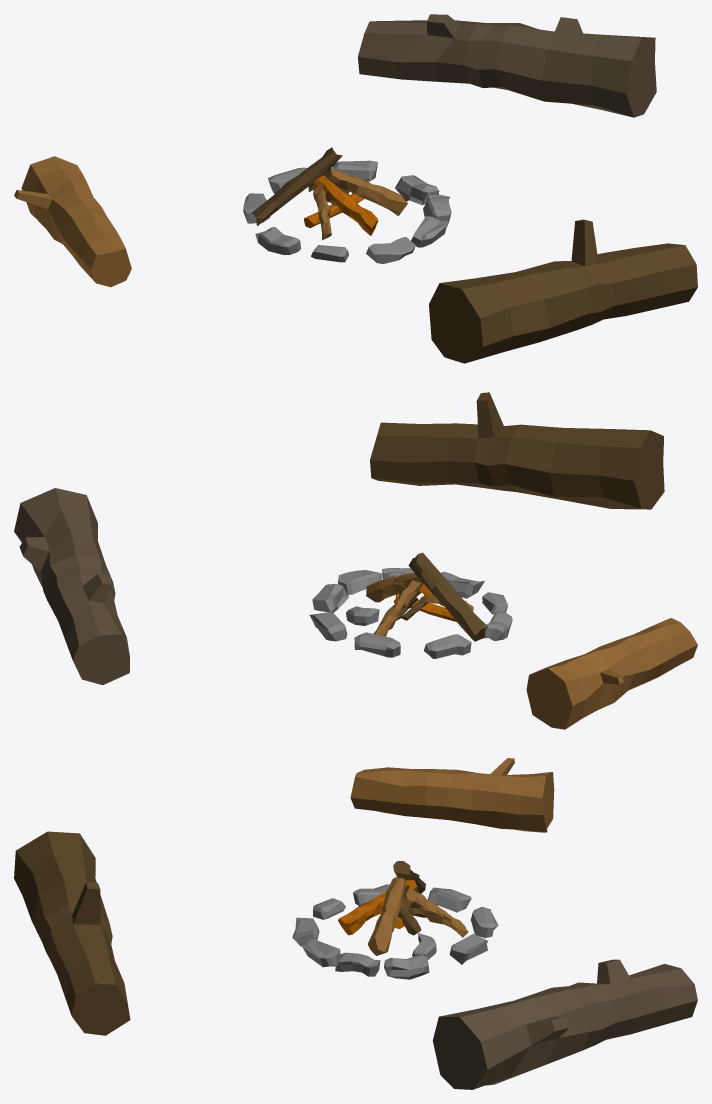
File: bonfire without fire.fbx
The picture shows the model from 3 angles, top to bottom: view 1: azimuth 30°, elevation 25°; view 2: azimuth 150°, elevation 25°; view 3: azimuth 270°, elevation 25°; orthographic projection. The views are drawn at different scales.
Parts seen in each view (by area): view 1: Cylinder, Cylinder.003, Cylinder.002, Cylinder.004, Cube, Cube.002, Cube.006, Cube.008, Cube.005, Cube.007, Cylinder.005; view 2: Cylinder, Cylinder.003, Cylinder.002, Cylinder.009, Cube.004, Cube.003, Cube.006, Cube.005, Cube.007, Cube.002, Cube, Cube.009; view 3: Cylinder, Cylinder.002, Cylinder.009, Cylinder.004, Cube.006, Cube.007, Cube.005, Cube.003, Cube.008, Cube.004, Cube.
Boxes of the visible parts, <box> form: Cylinder: <box>14,14,697,363</box>; Cylinder.003: <box>251,147,342,225</box>; Cylinder.002: <box>323,168,410,216</box>; Cylinder.004: <box>313,175,378,235</box>; Cube: <box>366,236,415,263</box>; Cube.002: <box>255,226,300,254</box>; Cube.006: <box>395,175,439,205</box>; Cube.008: <box>411,216,447,247</box>; Cube.005: <box>332,160,377,182</box>; Cube.007: <box>423,194,451,226</box>; Cylinder.005: <box>313,184,331,240</box>; Cylinder: <box>14,392,697,729</box>; Cylinder.003: <box>408,552,488,641</box>; Cylinder.002: <box>366,573,423,602</box>; Cylinder.009: <box>373,580,421,636</box>; Cube.004: <box>354,632,400,657</box>; Cube.003: <box>423,634,471,658</box>; Cube.006: <box>312,583,348,612</box>; Cube.005: <box>309,612,347,641</box>; Cube.007: <box>337,570,381,594</box>; Cube.002: <box>484,611,512,641</box>; Cube: <box>441,571,484,598</box>; Cube.009: <box>346,606,379,625</box>; Cylinder: <box>14,758,697,1089</box>; Cylinder.002: <box>368,876,406,955</box>; Cylinder.009: <box>402,885,468,937</box>; Cylinder.004: <box>338,880,417,935</box>; Cube.006: <box>384,955,429,979</box>; Cube.007: <box>335,952,380,976</box>; Cube.005: <box>449,933,487,964</box>; Cube.003: <box>428,887,471,912</box>; Cube.008: <box>302,939,340,967</box>; Cube.004: <box>470,907,498,938</box>; Cube: <box>292,917,319,946</box>.
Bounding box in the file's own units: 2268 × 371 × 2192.
